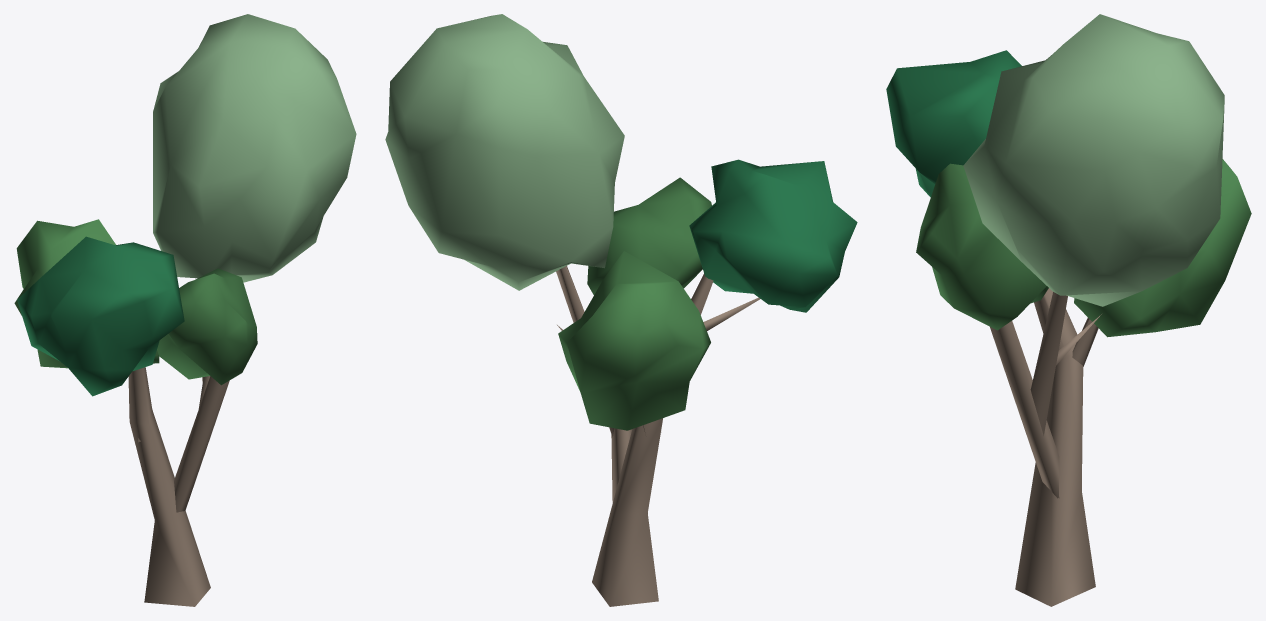
The model's file is tree5.glb.
3 renders of one model, left to right at view 1: azimuth 30°, elevation 25°; view 2: azimuth 150°, elevation 25°; view 3: azimuth 270°, elevation 25°, orthographic. The views are drawn at different scales.
Visible parts, largest first — view 1: maple2-lod1; view 2: maple2-lod1; view 3: maple2-lod1.
Boxes of the visible parts, <box> form: maple2-lod1: <box>14,14,356,606</box>; maple2-lod1: <box>385,14,857,606</box>; maple2-lod1: <box>886,14,1251,606</box>.
Bounding box in the file's own units: 8.58 × 12.13 × 6.52.
